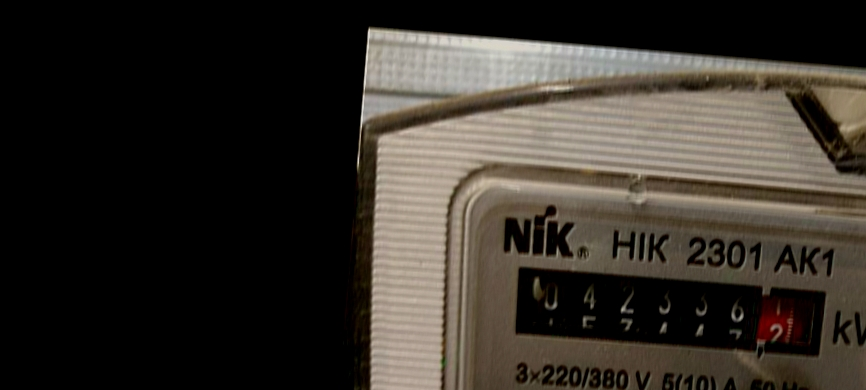0: (542, 278, 563, 313)
1: (772, 291, 786, 318)
2: (618, 281, 641, 316), (767, 322, 786, 344)
3: (655, 283, 675, 316), (694, 286, 713, 319)
4: (582, 278, 602, 311)
6: (728, 291, 751, 326)
screen: (501, 252, 842, 371)
